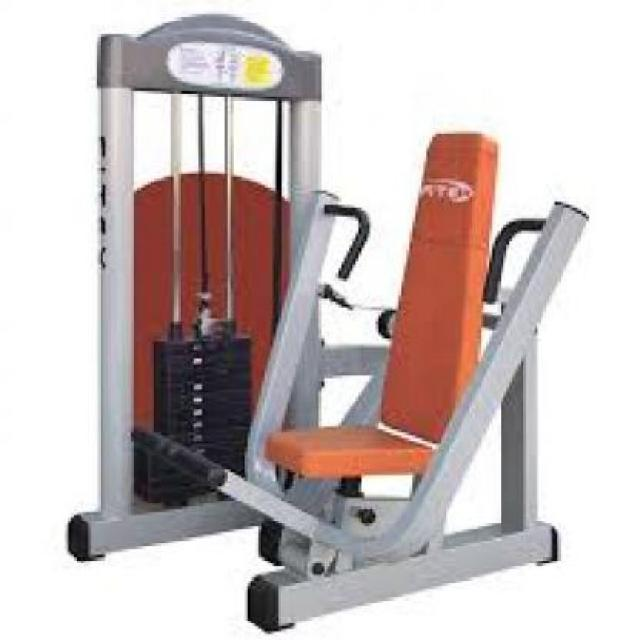Chest Press machine: (60, 0, 588, 640)
